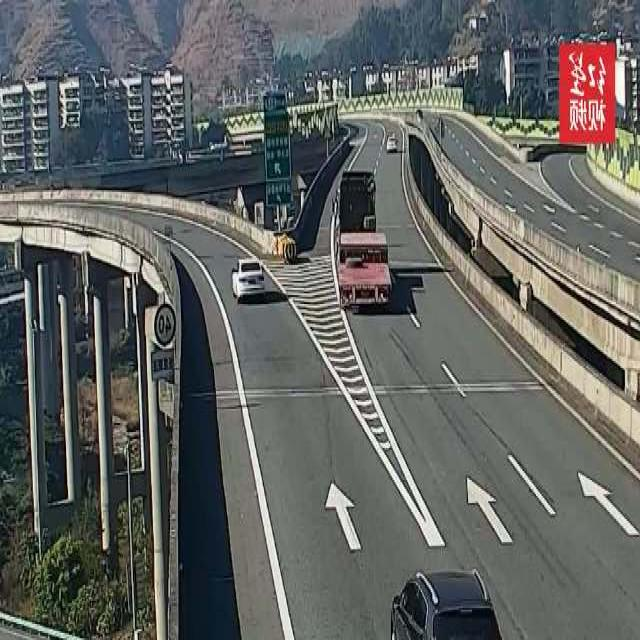point: (314, 46, 415, 184), (122, 160, 208, 293)
